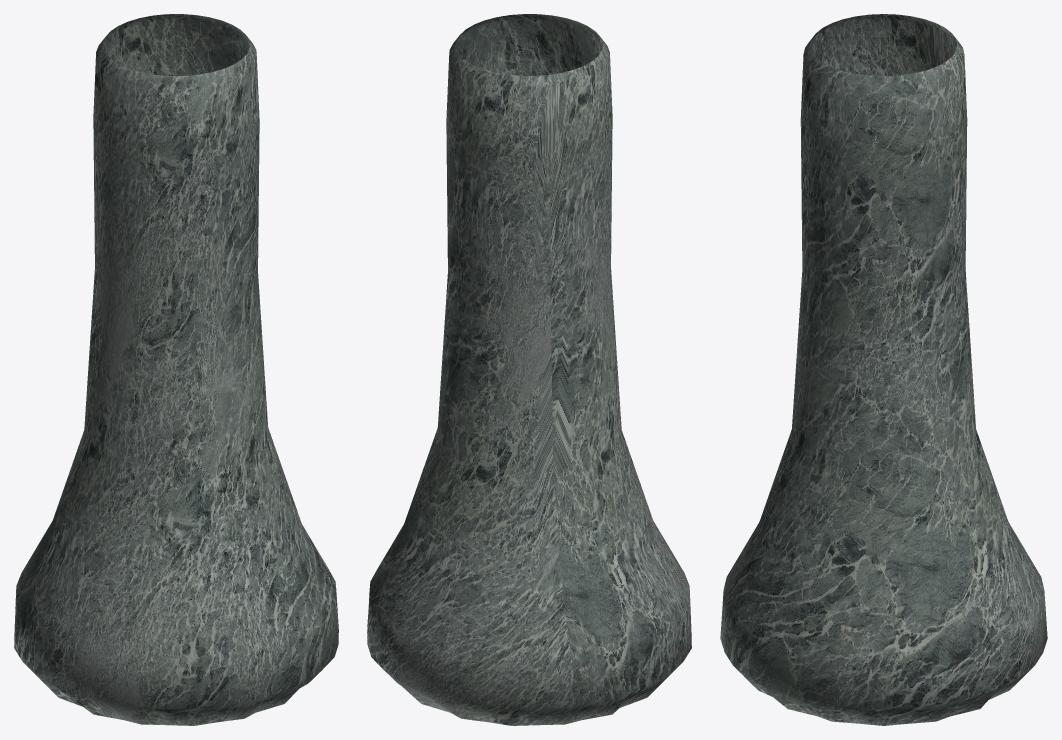
Rendered from vase 1.fbx.
The picture shows the model from 3 angles, left to right: view 1: azimuth 30°, elevation 25°; view 2: azimuth 150°, elevation 25°; view 3: azimuth 270°, elevation 25°; orthographic projection.
Visible parts, largest first — view 1: ваза2; view 2: ваза2; view 3: ваза2.
Part boxes in pixels (<box>): ваза2: <box>14,14,338,725</box>; ваза2: <box>367,14,691,725</box>; ваза2: <box>720,14,1047,725</box>.
Bounding box in the file's own units: 0.2191 × 0.4772 × 0.2191.
